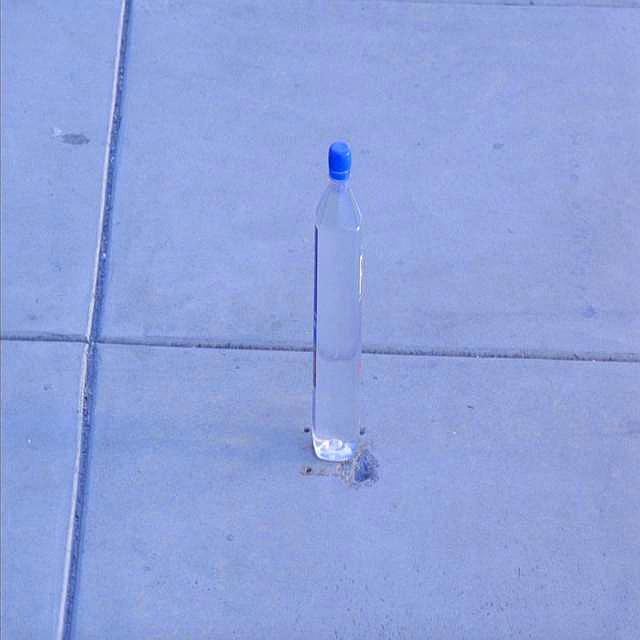Non-biodegradable: (309, 139, 368, 464)
